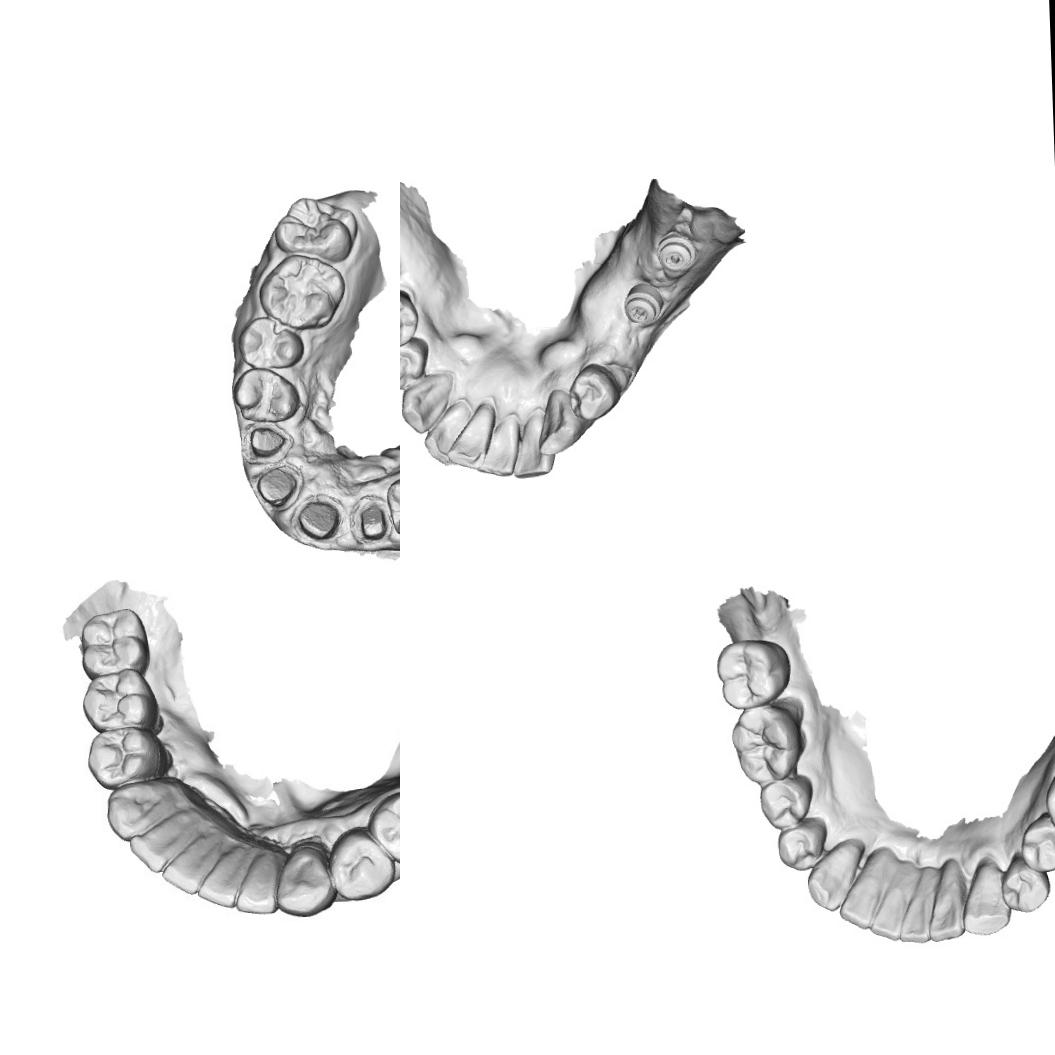canine: (97, 778, 196, 836), (274, 834, 340, 918), (804, 835, 866, 913), (400, 369, 460, 435), (533, 386, 584, 458), (962, 866, 1012, 938)
crown: (286, 489, 348, 548), (247, 456, 306, 513), (347, 493, 395, 550), (239, 420, 295, 464)
implant_minus: (622, 282, 665, 326), (654, 229, 697, 272)
incisor: (130, 810, 206, 871), (200, 838, 256, 909), (166, 825, 225, 892), (236, 842, 284, 917), (470, 410, 522, 478), (446, 400, 498, 467), (512, 404, 557, 480), (424, 401, 475, 467), (924, 876, 968, 946), (836, 864, 876, 932), (896, 877, 934, 946), (868, 876, 903, 942)
molar: (256, 253, 348, 332), (729, 702, 808, 788), (270, 194, 360, 264), (713, 636, 793, 713), (78, 606, 154, 677)
premolar: (328, 824, 399, 902), (80, 666, 158, 736), (81, 723, 162, 786), (230, 364, 302, 423), (235, 314, 306, 370), (566, 362, 622, 422), (758, 774, 818, 830), (999, 854, 1052, 914), (776, 819, 832, 872), (369, 788, 400, 866), (1018, 809, 1055, 873), (400, 336, 431, 391), (384, 472, 400, 542), (400, 293, 420, 349)
